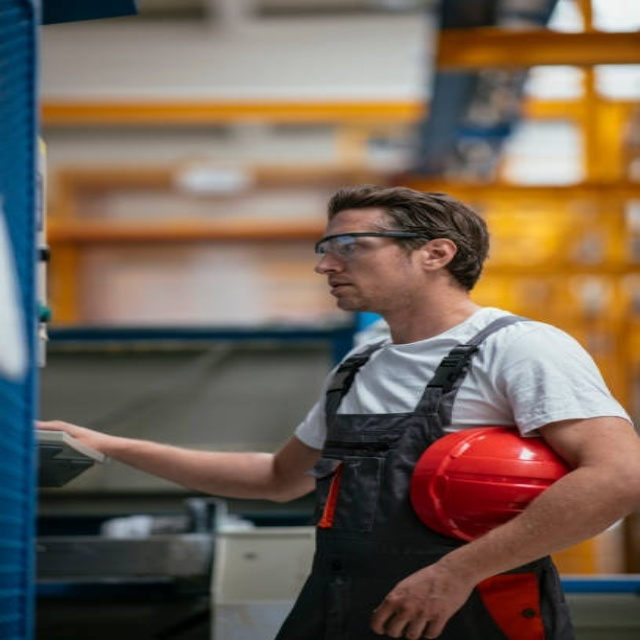Gafas: (315, 232, 430, 261)
Sin_guantes: (369, 559, 469, 637), (38, 412, 119, 461)
Sin_mascara: (323, 275, 369, 305)
